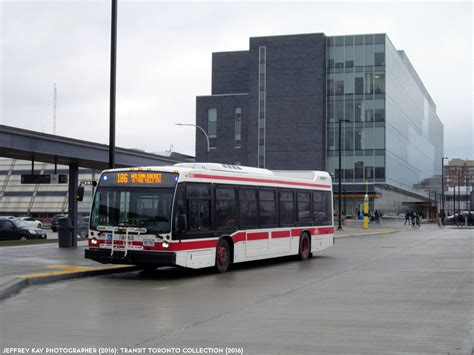bus: (84, 166, 333, 273)
